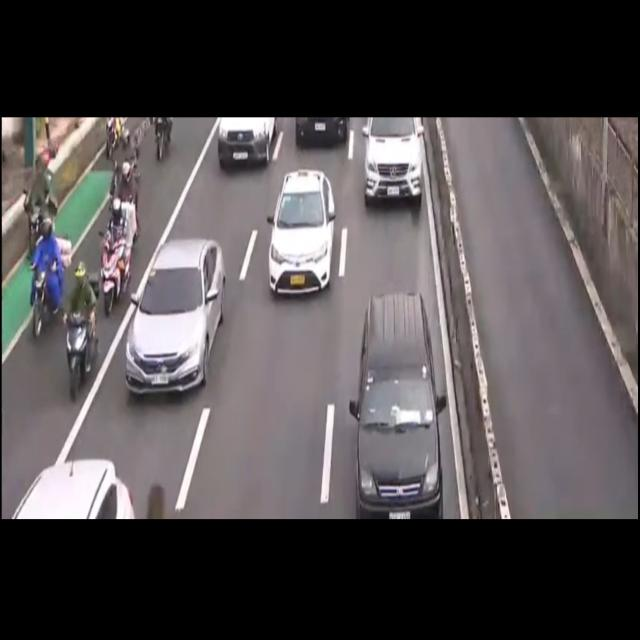Motorcycle: (62, 267, 96, 403), (30, 216, 63, 338), (97, 200, 130, 320), (109, 154, 140, 268)
SUV: (350, 292, 452, 514)
Sedan: (124, 239, 228, 400), (271, 172, 335, 299)
